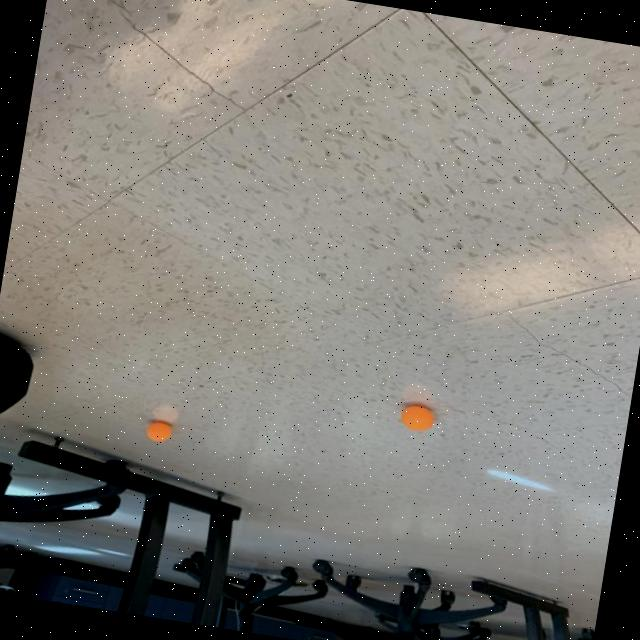ping-pong-ball: (396, 400, 439, 438), (140, 414, 178, 446)
